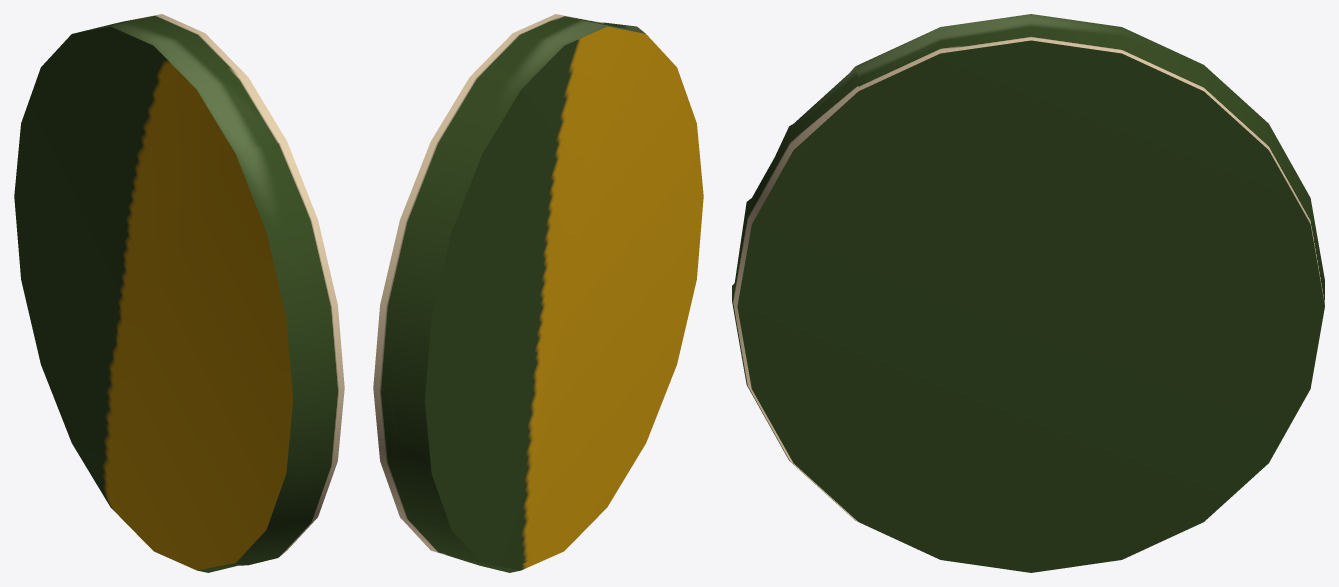
File: pickleslice05.fbx
The picture shows the model from 3 angles, left to right: view 1: azimuth 30°, elevation 25°; view 2: azimuth 150°, elevation 25°; view 3: azimuth 270°, elevation 25°; orthographic projection. The views are drawn at different scales.
Parts seen in each view (by area): view 1: pCylinder76; view 2: pCylinder76; view 3: pCylinder76.
Part boxes in pixels (x1=…): pCylinder76: x1=14, y1=14, x2=344, y2=572; pCylinder76: x1=373, y1=14, x2=703, y2=572; pCylinder76: x1=732, y1=14, x2=1324, y2=572.
Bounding box in the file's own units: 0.00827 × 0.0668 × 0.0668.
